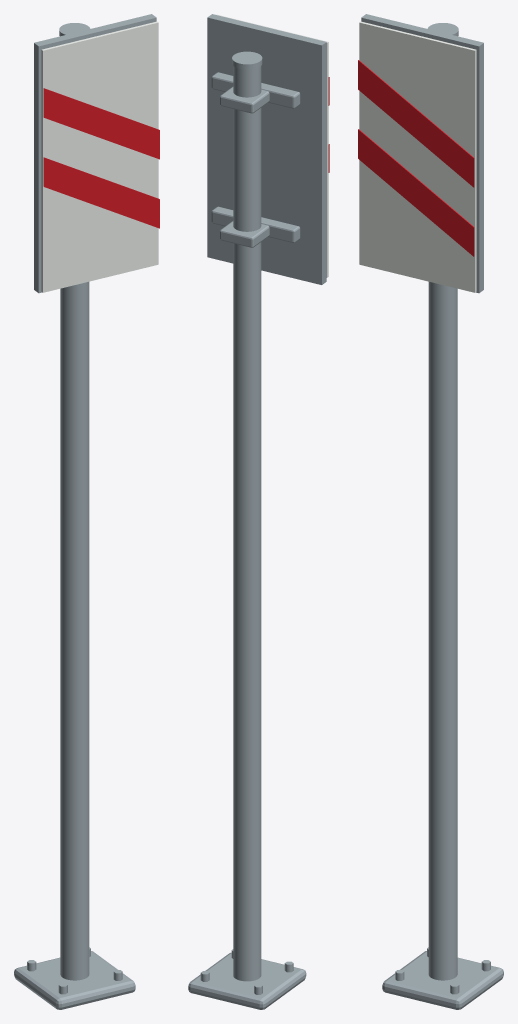
Rendered from DS_Sign_RailwayDist2_L.fbx.
The picture shows the model from 3 angles, left to right: view 1: azimuth 30°, elevation 25°; view 2: azimuth 150°, elevation 25°; view 3: azimuth 330°, elevation 25°; orthographic projection. The views are drawn at different scales.
Parts seen in each view (by area): view 1: Face_Field.006, Post.008, BasePlate.008, Stripe_0.004, Stripe_1.003, Plate_Back.011; view 2: Post.008, Plate_Back.011, BasePlate.008, RearRail.018, RearRail.017, Face_Field.006, PostClamp.018, PostClamp.017, PostCap.008; view 3: Face_Field.006, Post.008, Stripe_0.004, Stripe_1.003, BasePlate.008, Plate_Back.011.
Part boxes in pixels (<box>): Face_Field.006: <box>41,21,158,292</box>; Post.008: <box>60,281,89,980</box>; BasePlate.008: <box>14,951,135,1009</box>; Stripe_0.004: <box>43,157,159,228</box>; Stripe_1.003: <box>43,88,159,159</box>; Plate_Back.011: <box>34,14,156,293</box>; Post.008: <box>233,66,261,981</box>; Plate_Back.011: <box>207,14,326,284</box>; BasePlate.008: <box>188,952,306,1009</box>; RearRail.018: <box>211,72,300,108</box>; RearRail.017: <box>211,206,300,242</box>; Face_Field.006: <box>216,14,328,277</box>; PostClamp.018: <box>220,86,269,113</box>; PostClamp.017: <box>220,221,269,247</box>; PostCap.008: <box>232,51,262,69</box>; Face_Field.006: <box>359,21,476,292</box>; Post.008: <box>428,281,457,980</box>; Stripe_0.004: <box>358,129,474,256</box>; Stripe_1.003: <box>358,60,474,187</box>; BasePlate.008: <box>382,951,503,1009</box>; Plate_Back.011: <box>361,14,483,293</box>.
Bounding box in the file's own units: 35.7 × 281 × 26.2.
